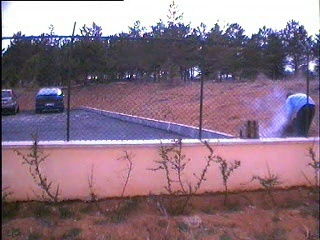smoke: (253, 84, 290, 138)
